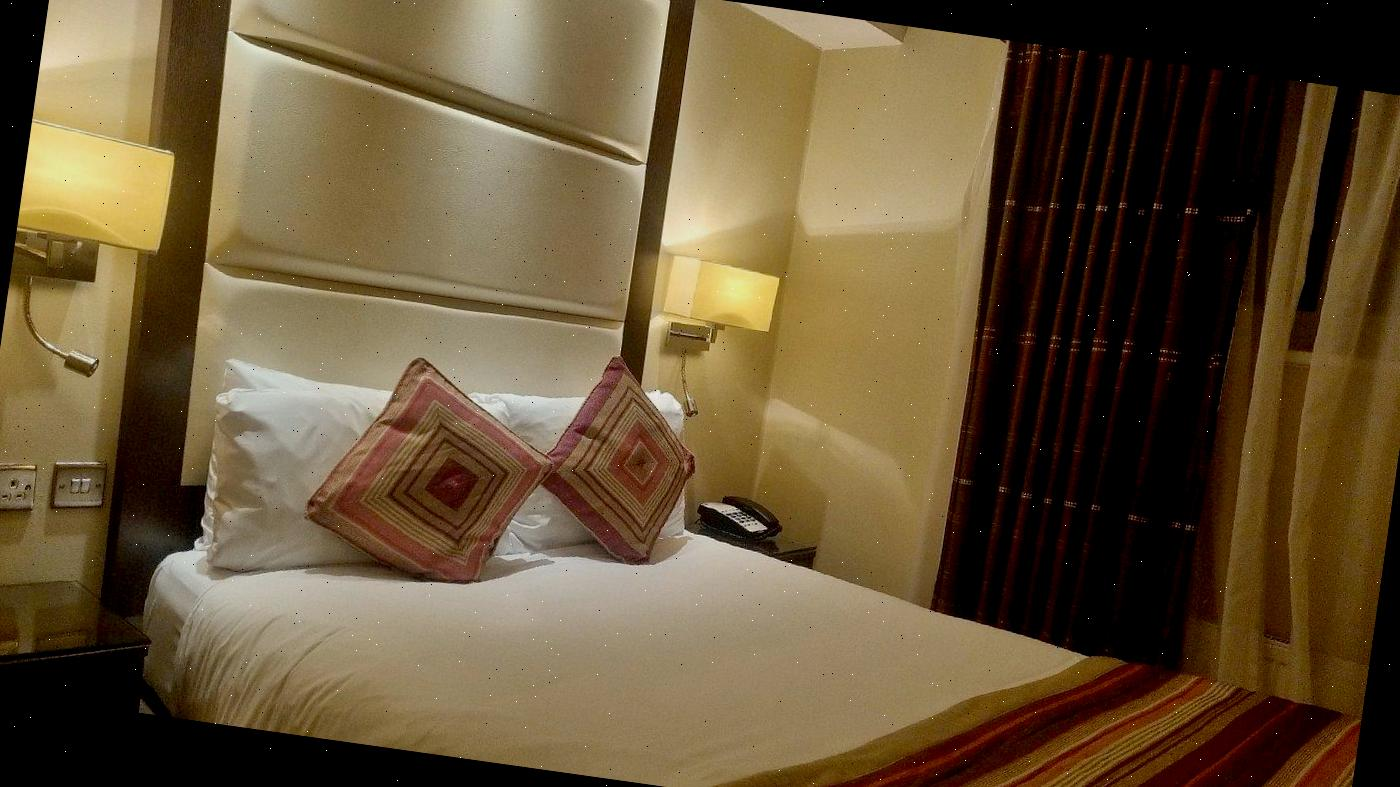clean_bed: (139, 270, 1362, 787)
lamp: (0, 129, 172, 379), (638, 256, 786, 415)
organised_pillow: (198, 354, 692, 585)
